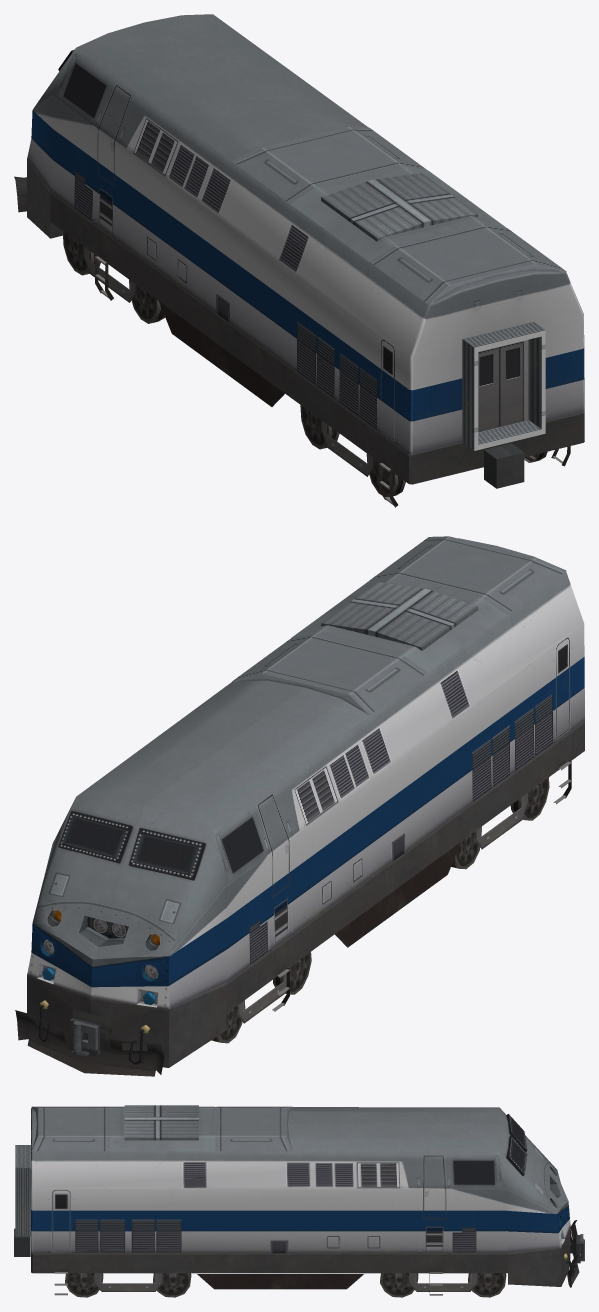
Rendered from Train_US.glb.
3 renders of one model, top to bottom at view 1: azimuth 30°, elevation 25°; view 2: azimuth 150°, elevation 25°; view 3: azimuth 270°, elevation 25°, orthographic. The views are drawn at different scales.
Visible parts, largest first — view 1: Train_US__LOD3; view 2: Train_US__LOD3; view 3: Train_US__LOD3.
Boxes of the visible parts, box(x1,y1,x2,y2) form: Train_US__LOD3: box(14, 14, 584, 507); Train_US__LOD3: box(15, 536, 584, 1076); Train_US__LOD3: box(14, 1105, 584, 1297).
Bounding box in the file's own units: 3.47 × 4.2 × 14.08.
1 material, 1 textured.
